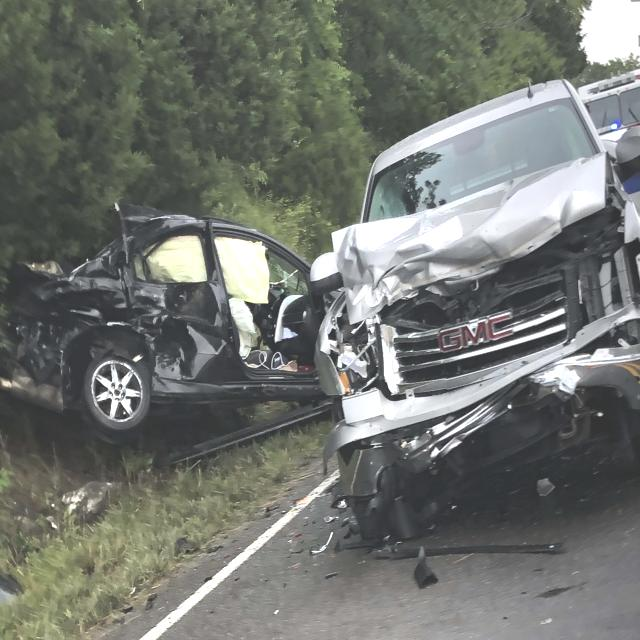accident: (4, 80, 640, 588)
